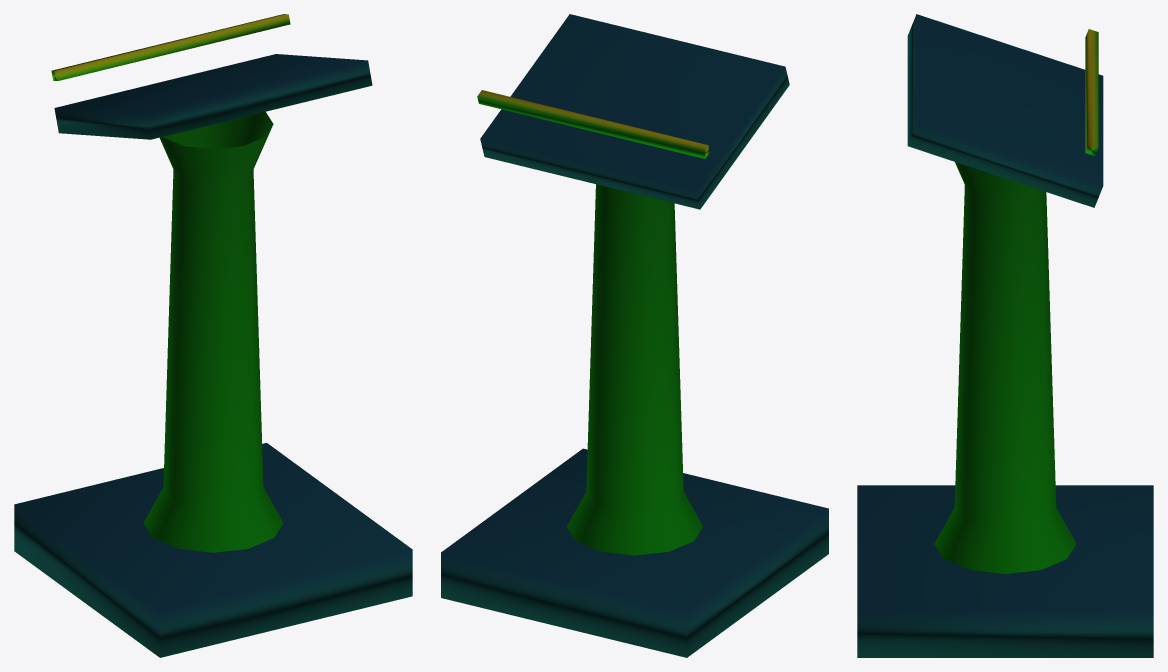
Rendered from cantor_stand.glb.
3 renders of one model, left to right at view 1: azimuth 30°, elevation 25°; view 2: azimuth 150°, elevation 25°; view 3: azimuth 270°, elevation 25°, orthographic. The views are drawn at different scales.
Parts seen in each view (by area): view 1: cantor_stand; view 2: cantor_stand; view 3: cantor_stand.
Part boxes in pixels (x1,y1,x2,y2): cantor_stand: [14, 14, 412, 657]; cantor_stand: [441, 14, 828, 657]; cantor_stand: [857, 14, 1153, 657].
Size of what is drawn, in the model's own units: 0.5831 by 1.14 by 0.5831.
